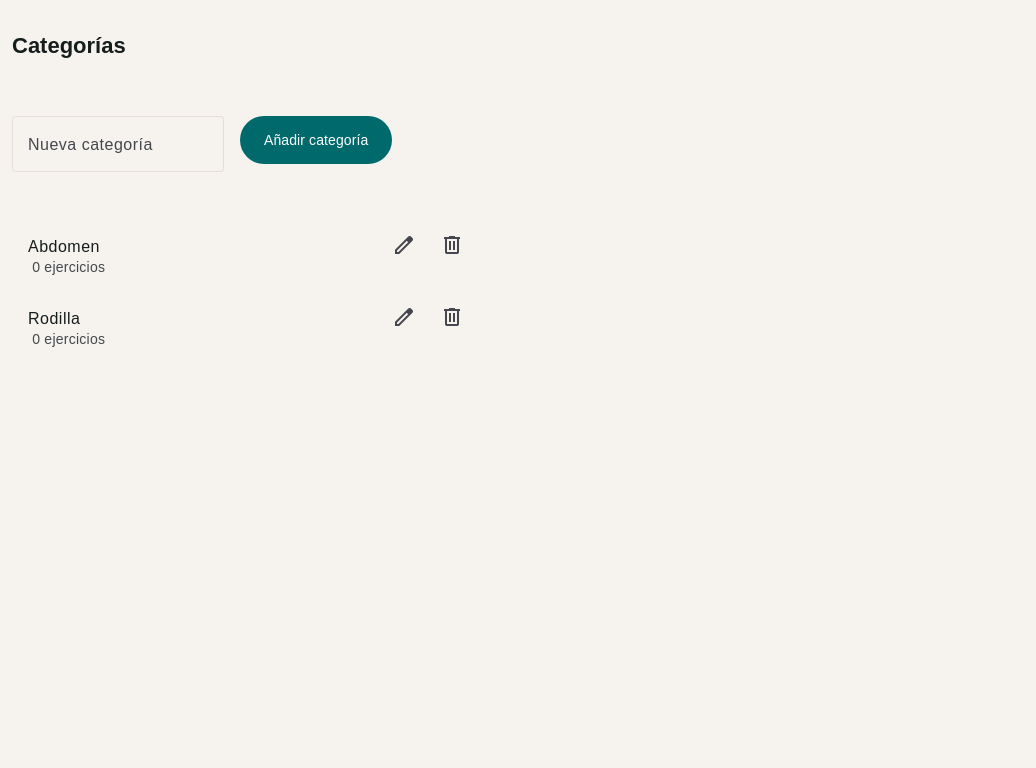
Test case: CategoriaGestionComponent › muestra el error al editar junto al elemento afectado
The width and height of the screenshot is (1036, 768).
Click the button named "Editar categoría Abdomen" at {"x": 404, "y": 248}, box [380,224,428,272]
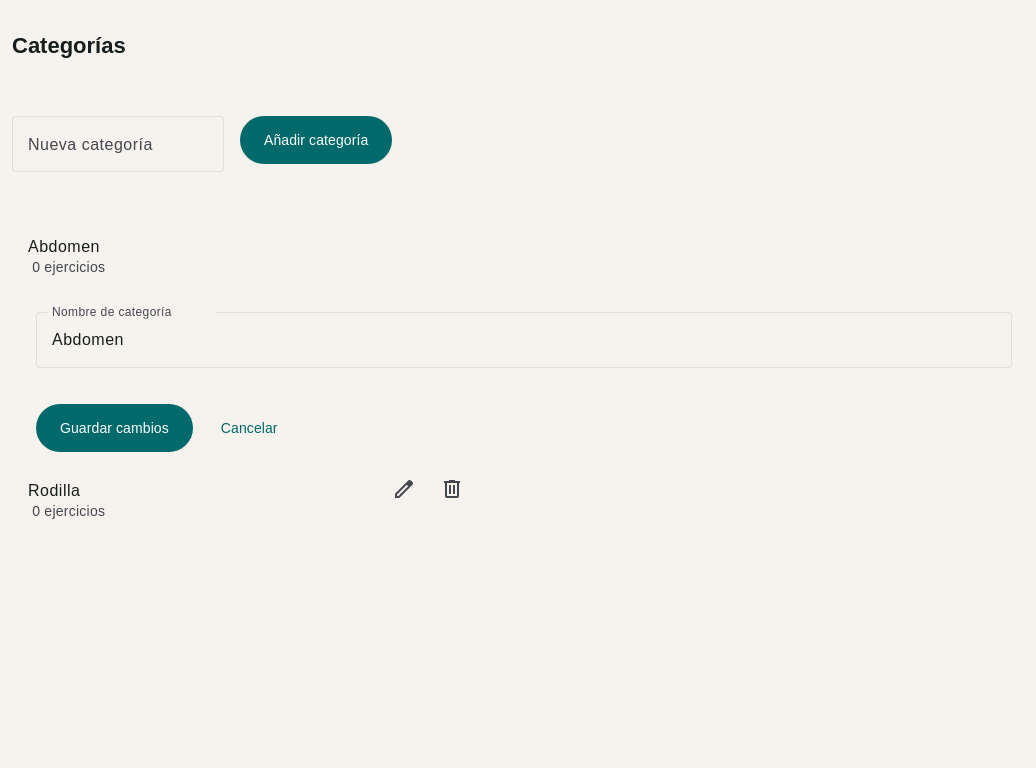
Submit the form named "Editar categoría Abdomen", box [12,296,1035,468]
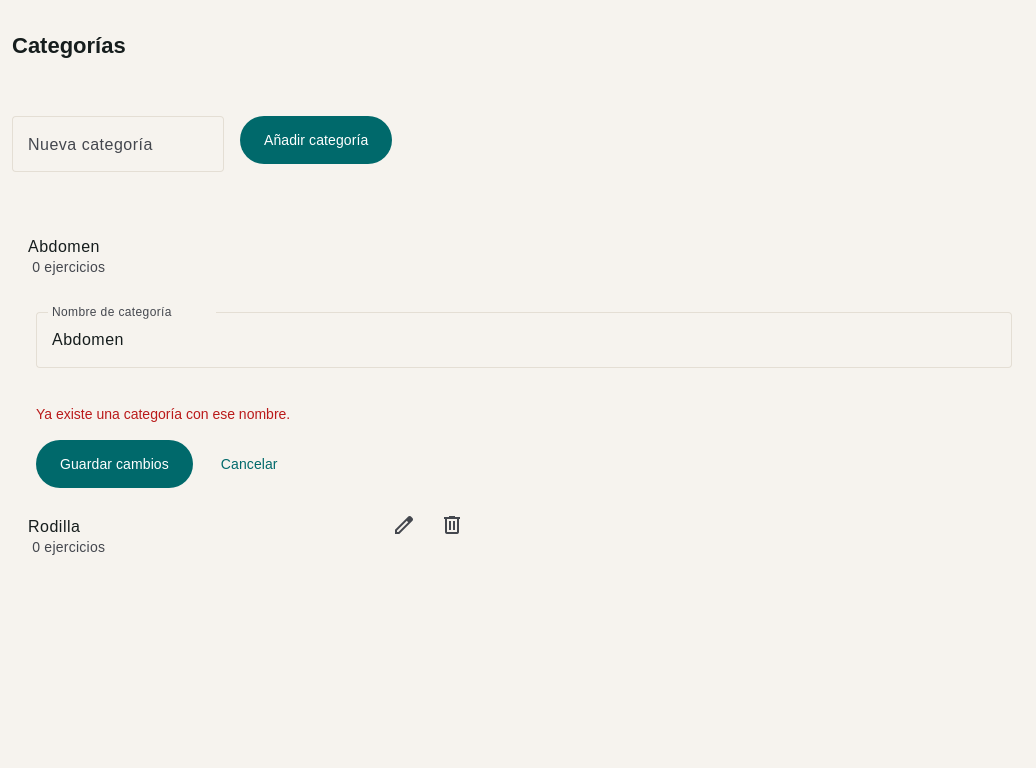
Expected: the message "Ya existe una categoría con ese nombre." is shown, [36,406,290,422]
